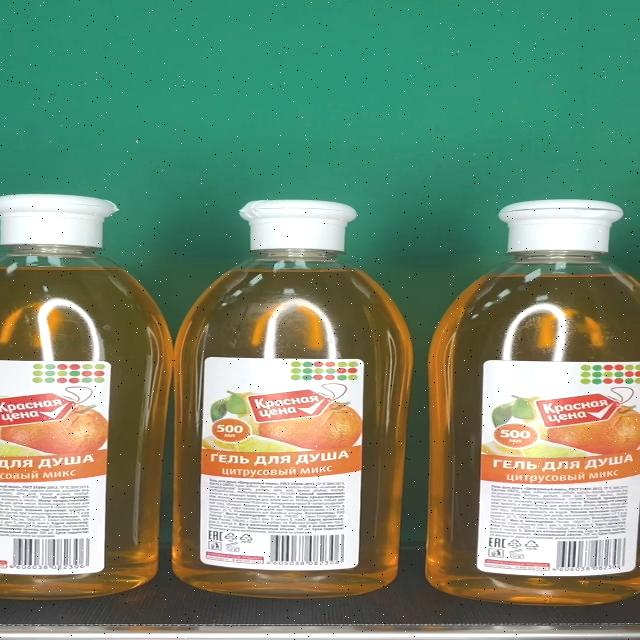Bottle: (173, 200, 414, 599), (426, 199, 640, 604)
Cap: (498, 200, 624, 254), (238, 200, 357, 250)
